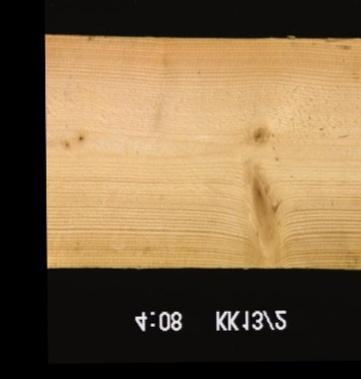small_knot: (60, 139, 69, 149), (75, 133, 84, 142)
sound_knot: (247, 123, 269, 147)
